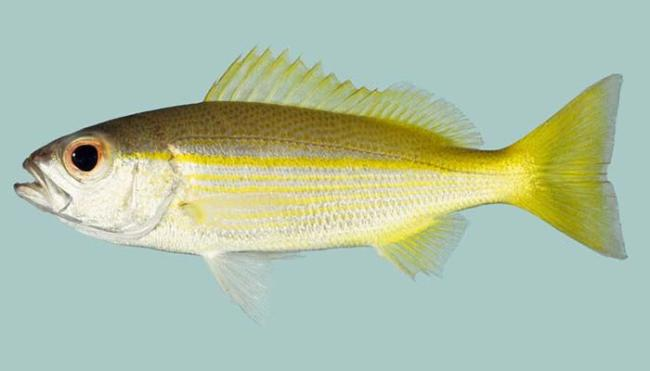fish: (13, 44, 630, 327)
